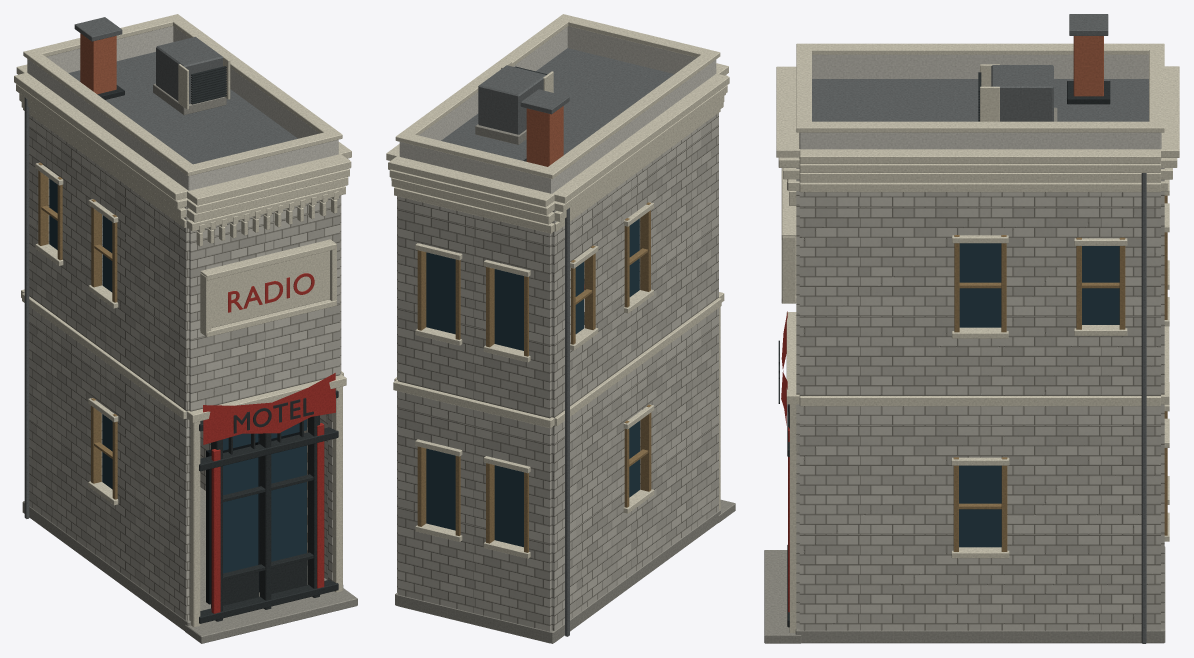
Rendered from BUSS4_lod1.glb.
3 views of the same model, side by side, from view 1: azimuth 30°, elevation 25°; view 2: azimuth 150°, elevation 25°; view 3: azimuth 270°, elevation 25° (orthographic). The views are drawn at different scales.
Parts seen in each view (by area): view 1: BUSS4_LOD1; view 2: BUSS4_LOD1; view 3: BUSS4_LOD1.
Boxes of the visible parts, x1=… form: BUSS4_LOD1: x1=14, y1=14, x2=357, y2=643; BUSS4_LOD1: x1=386, y1=14, x2=735, y2=643; BUSS4_LOD1: x1=764, y1=14, x2=1179, y2=643.
Bounding box in the file's own units: 3.78 × 10.25 × 6.9.
11 materials, 9 textured.
